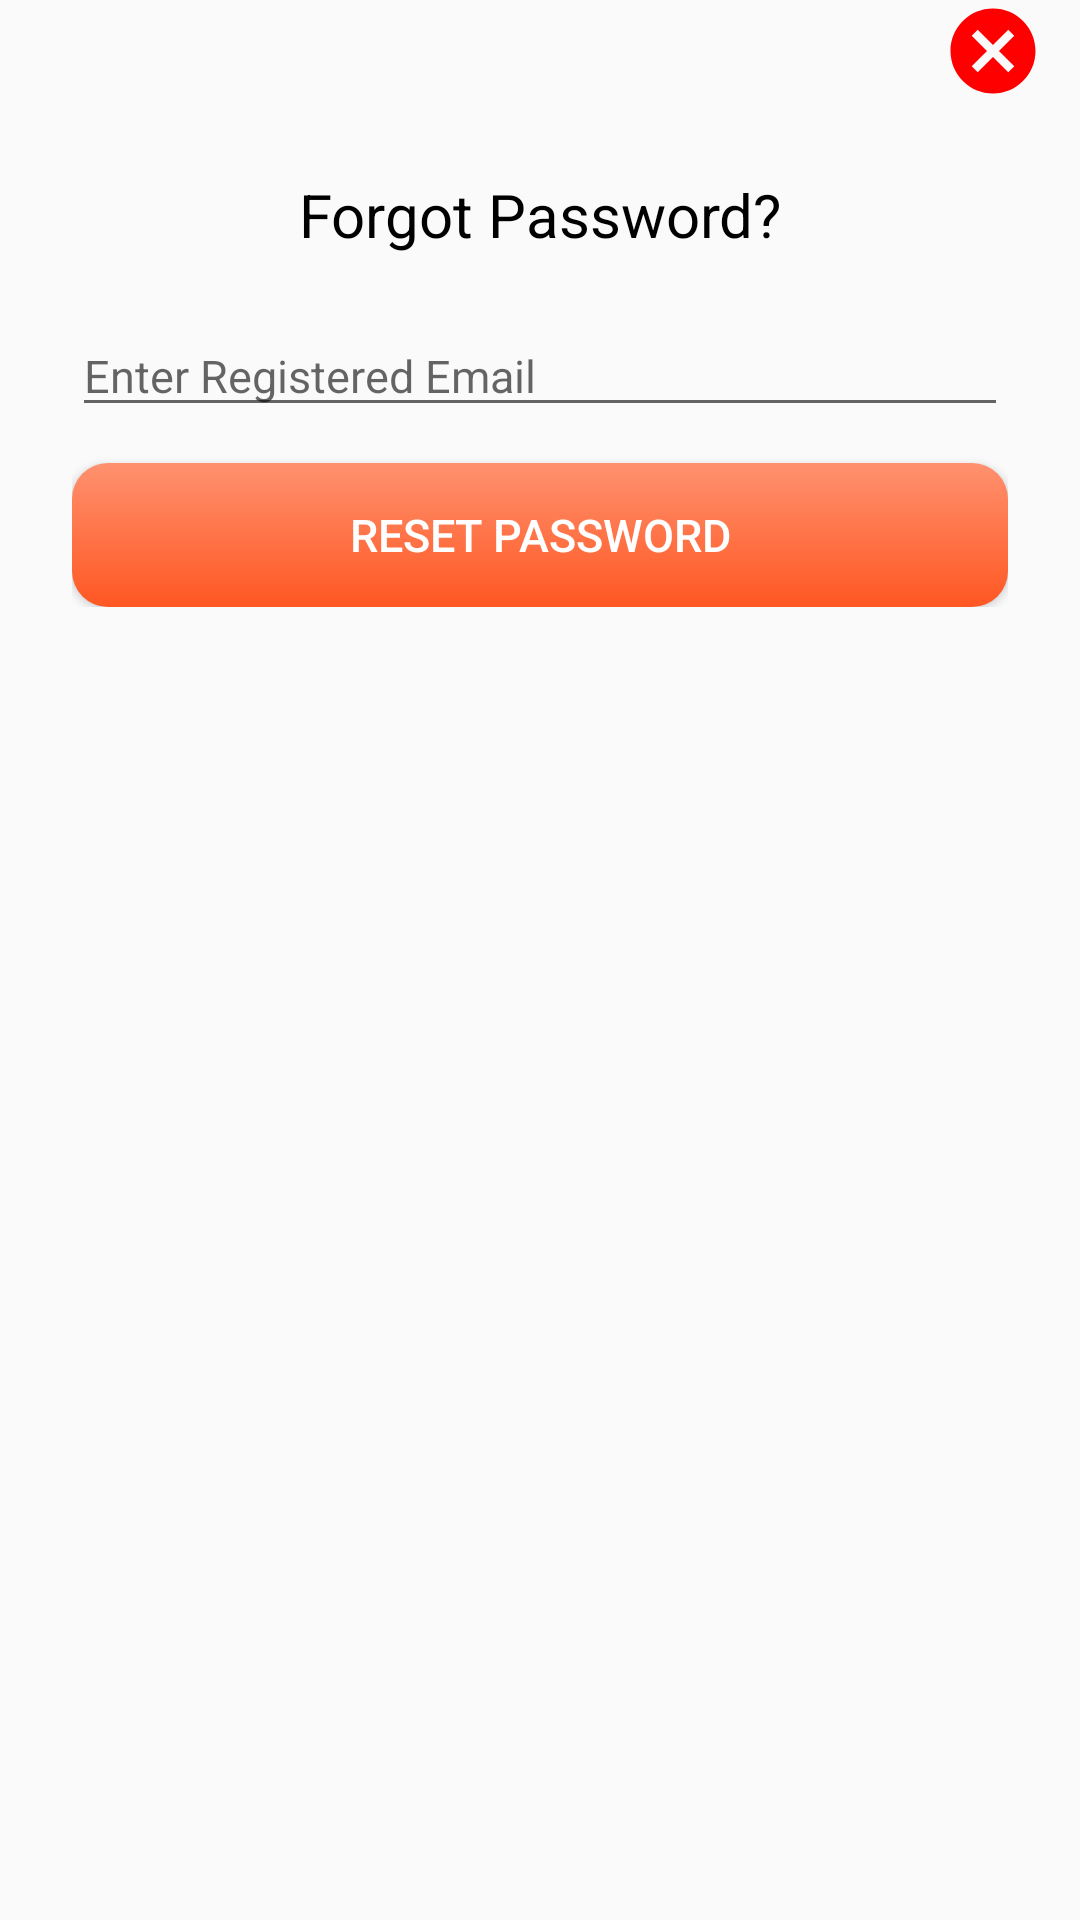

Icons on this 1080*1920 Android screen, each with its box as bbox(x1, y1, x2, y2):
cancel: bbox(950, 8, 1036, 94)
